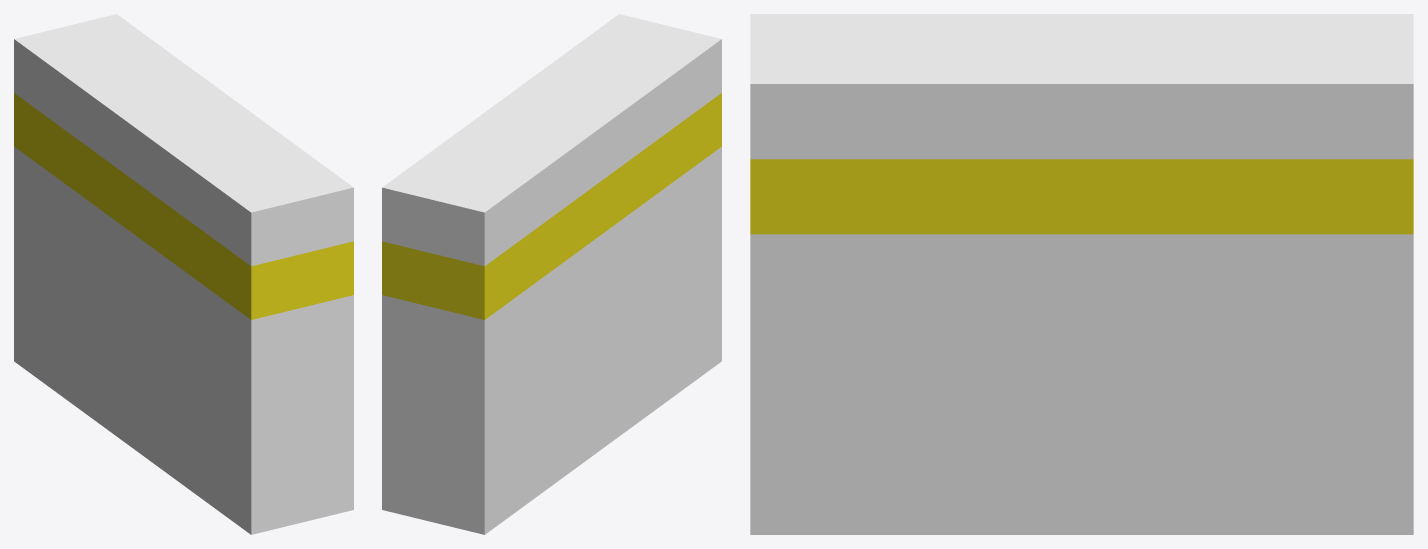
The model's file is sidebar.fbx.
The picture shows the model from 3 angles, left to right: view 1: azimuth 30°, elevation 25°; view 2: azimuth 150°, elevation 25°; view 3: azimuth 270°, elevation 25°; orthographic projection. The views are drawn at different scales.
Parts seen in each view (by area): view 1: 对象; view 2: 对象; view 3: 对象.
Part boxes in pixels (x1,y1,x2,y2): 对象: (14, 14, 353, 534); 对象: (382, 14, 721, 534); 对象: (750, 14, 1413, 534).
Bounding box in the file's own units: 2 × 6 × 8.
1 material, 1 textured.
